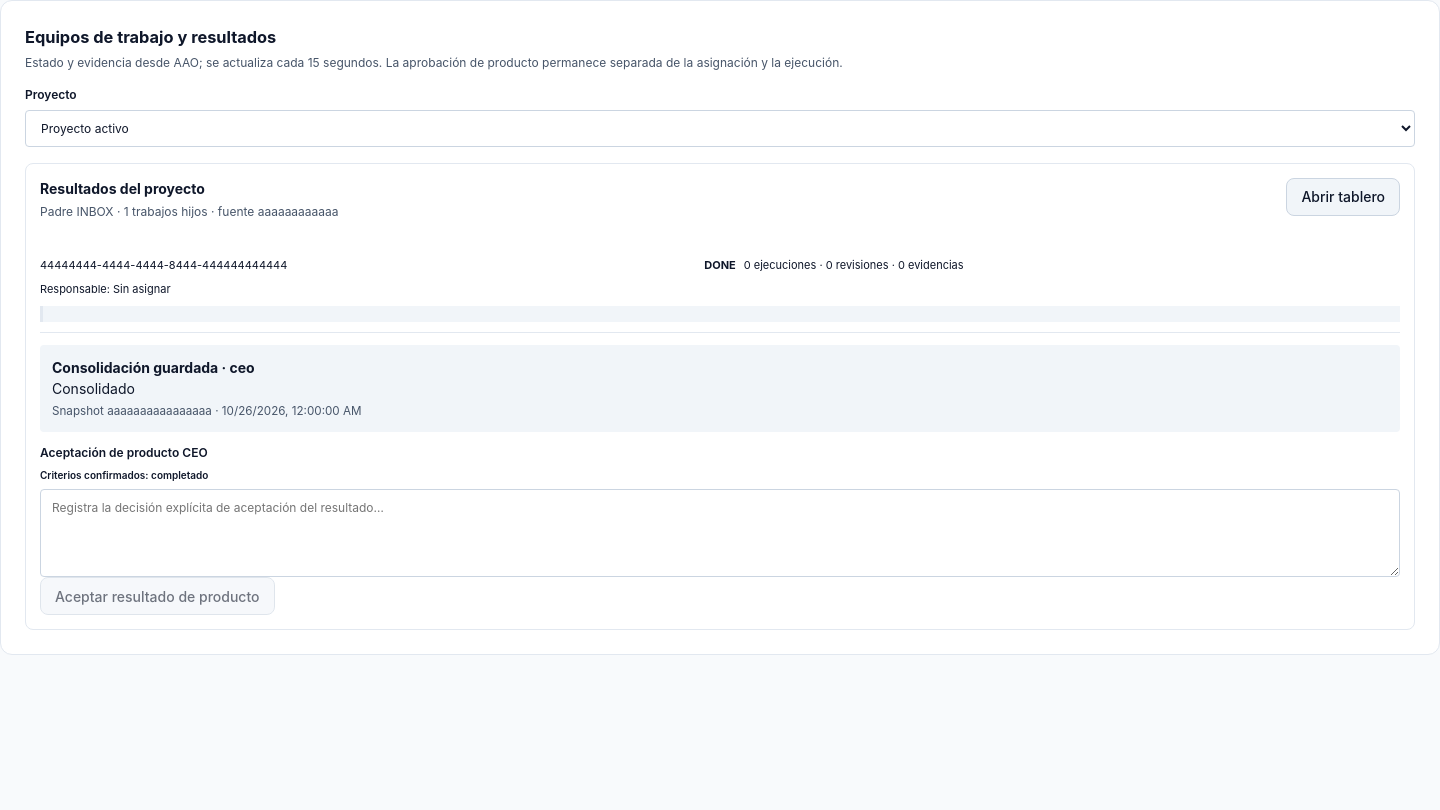
Test case: office work group consolidation › records product acceptance only after a current consolidation and exact criteria
expect the text "DONE" is shown: met, box [704, 257, 736, 273]
expect the text "Criterios confirmados: completado" is shown: met, box [40, 469, 208, 481]
In the text box with placeholder "Registra la decisión explícita de aceptación del resultado…": (720, 533) [40, 489, 1400, 577], type "Cumple el criterio acordado."
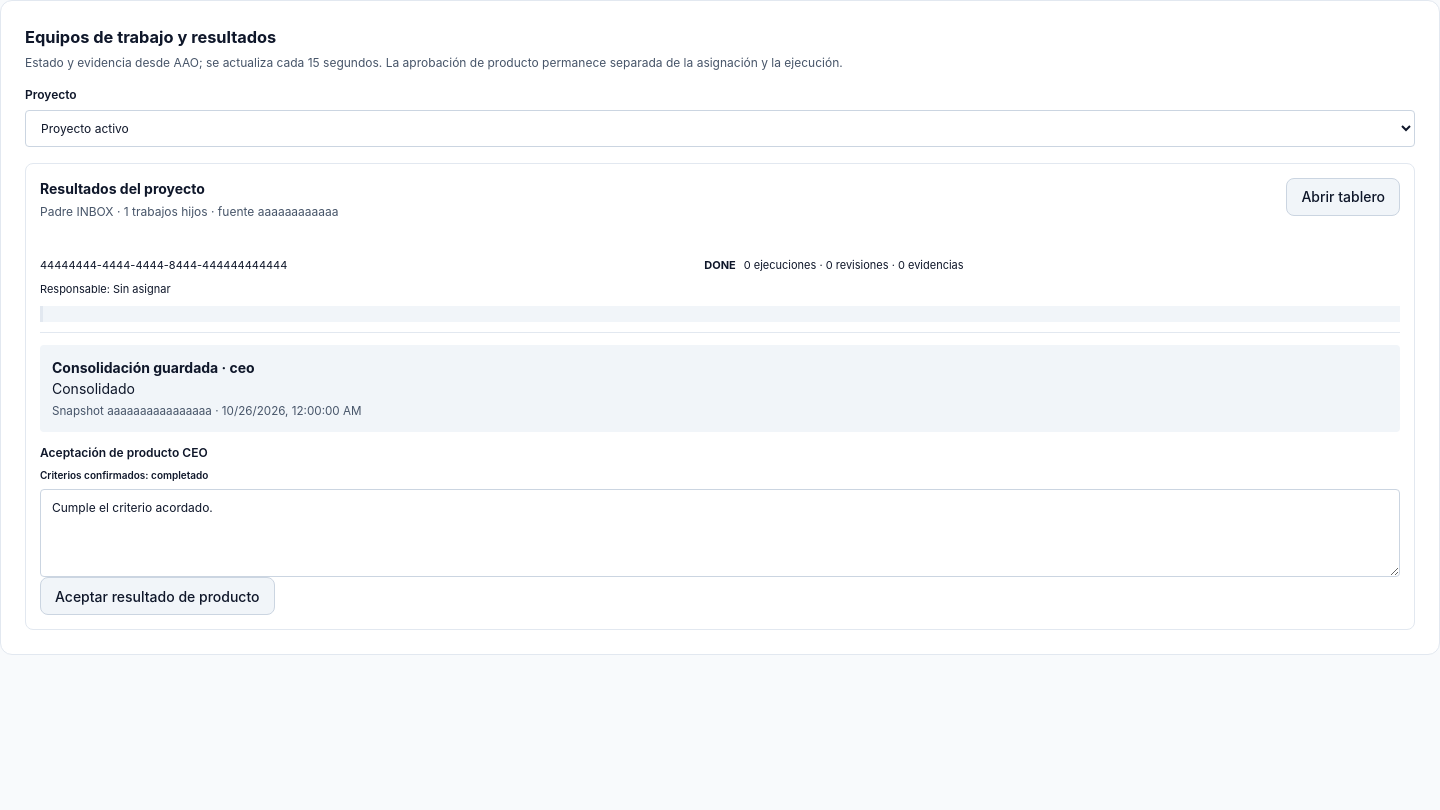
Click the button "Aceptar resultado de producto": (157, 596) [40, 577, 274, 615]
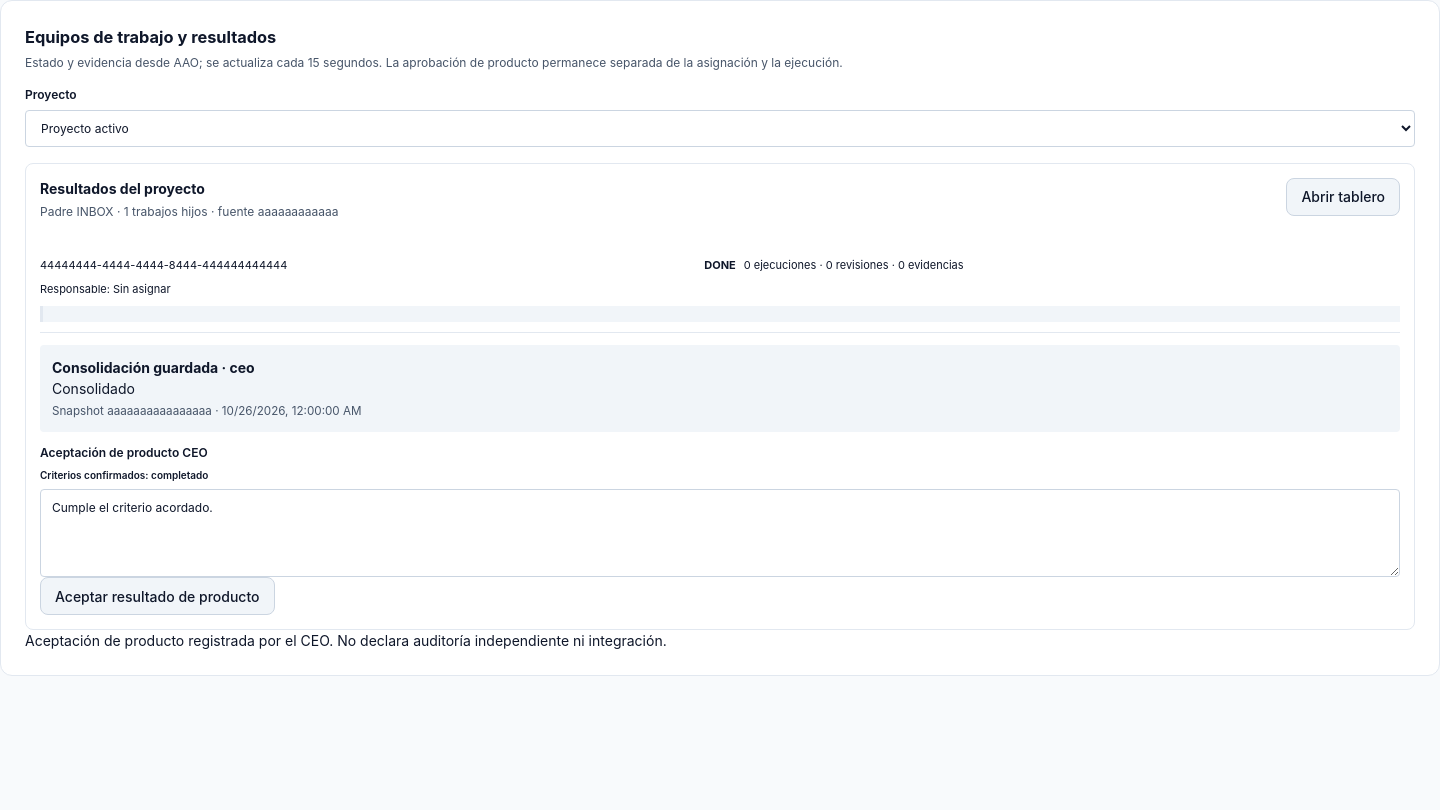
expect the text "Aceptación de producto registrada por el CEO" is shown: met, box [25, 632, 667, 649]
